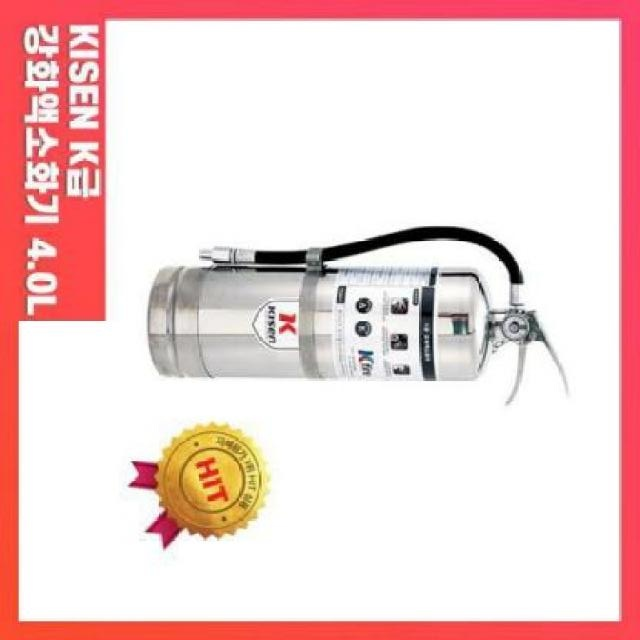fire extinguisher: (146, 226, 569, 406)
